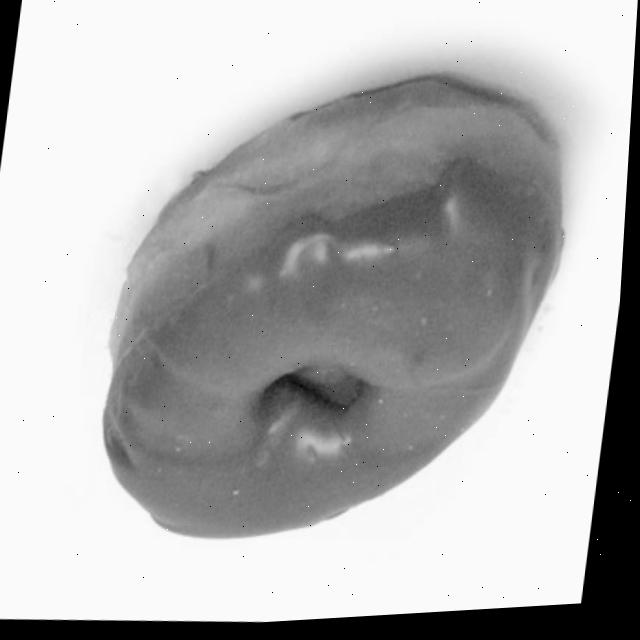炸货点心: (61, 11, 622, 609)
